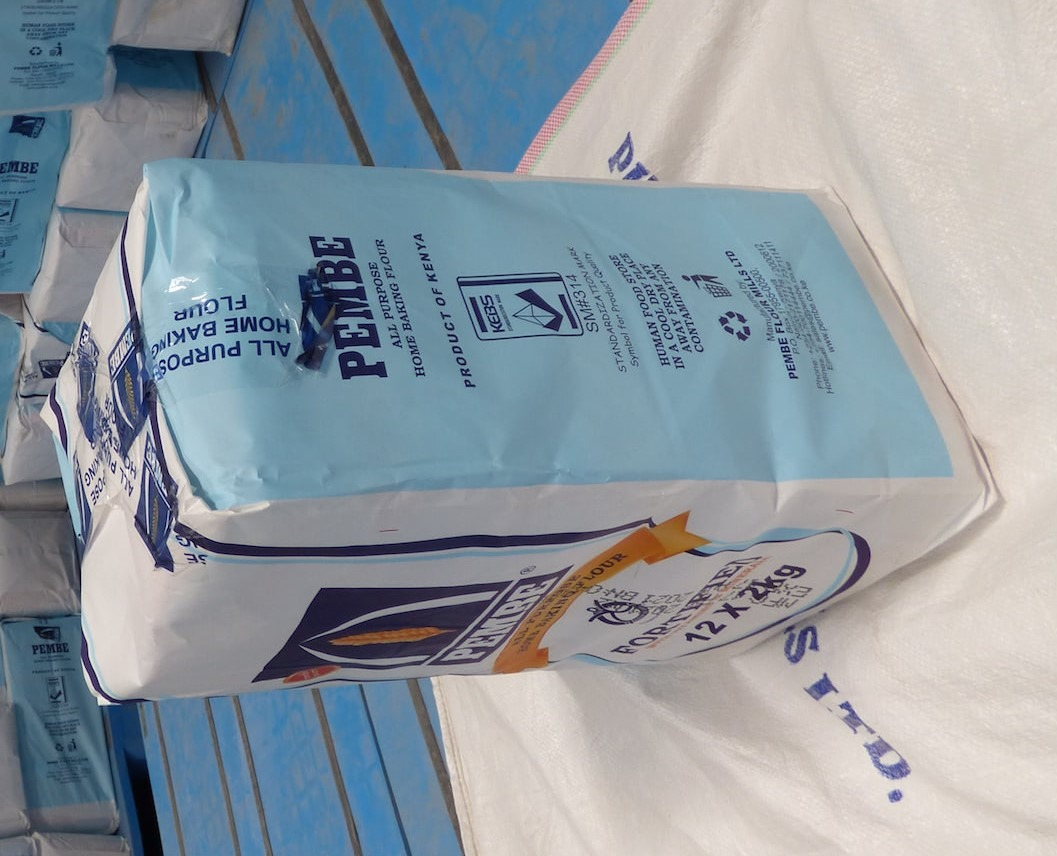wheat_flour_blue_label: (52, 164, 989, 652)
